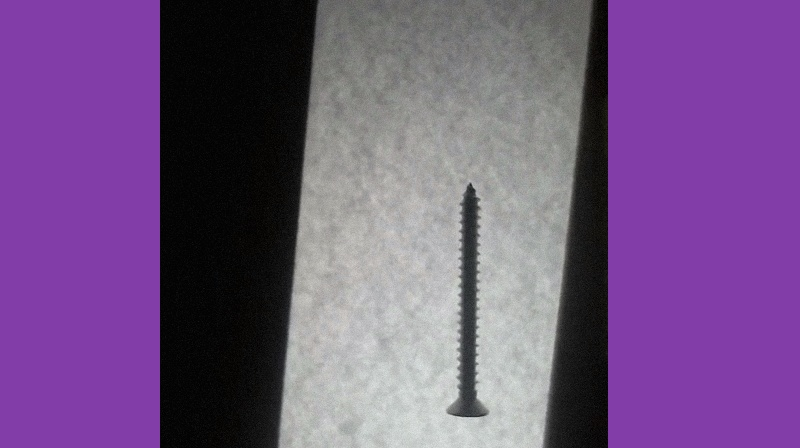S002: (442, 178, 493, 420)
